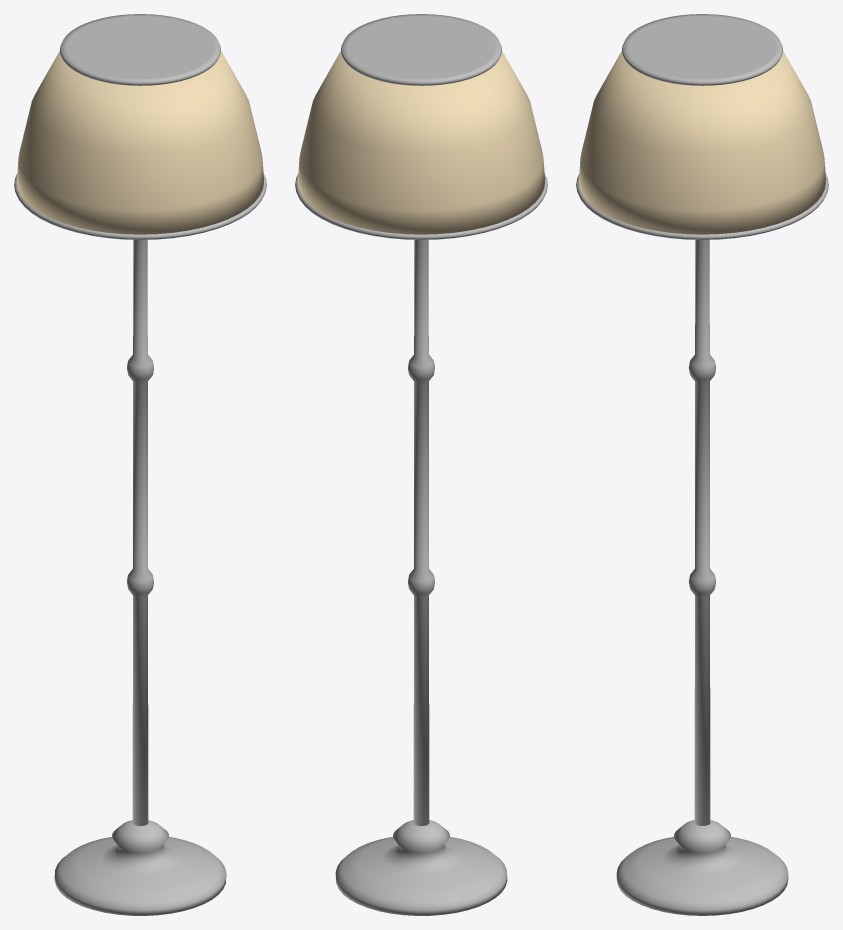
File: fx_lk_floor.glb
The picture shows the model from 3 angles, left to right: view 1: azimuth 30°, elevation 25°; view 2: azimuth 150°, elevation 25°; view 3: azimuth 270°, elevation 25°; orthographic projection.
Parts seen in each view (by area): view 1: fx_lk_floor; view 2: fx_lk_floor; view 3: fx_lk_floor.
Boxes of the visible parts, x1,y1,x2,y2 form: fx_lk_floor: [14, 14, 266, 915]; fx_lk_floor: [295, 14, 547, 915]; fx_lk_floor: [576, 14, 828, 915].
Size of the model in its own units: 0.442 by 1.61 by 0.442.
